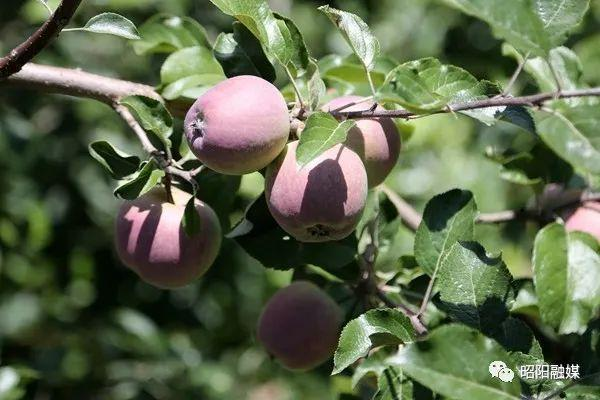apple: (114, 188, 221, 290), (183, 73, 292, 172), (264, 137, 367, 241), (318, 96, 401, 183)
